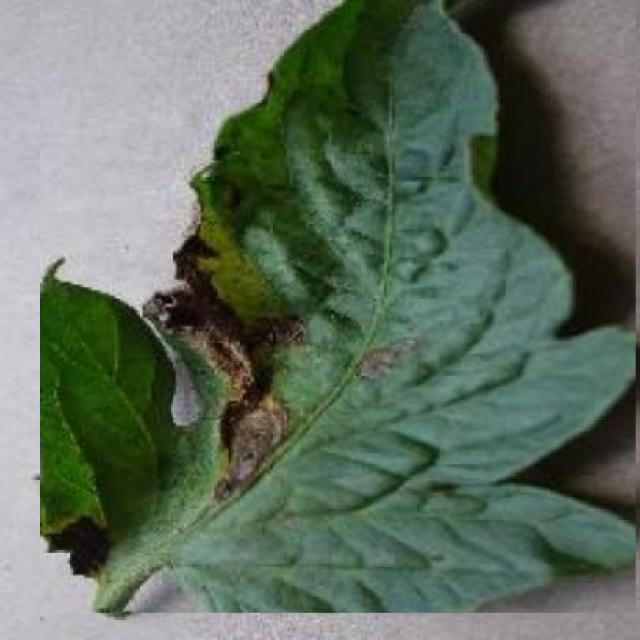Early Blight: (40, 0, 636, 613)
